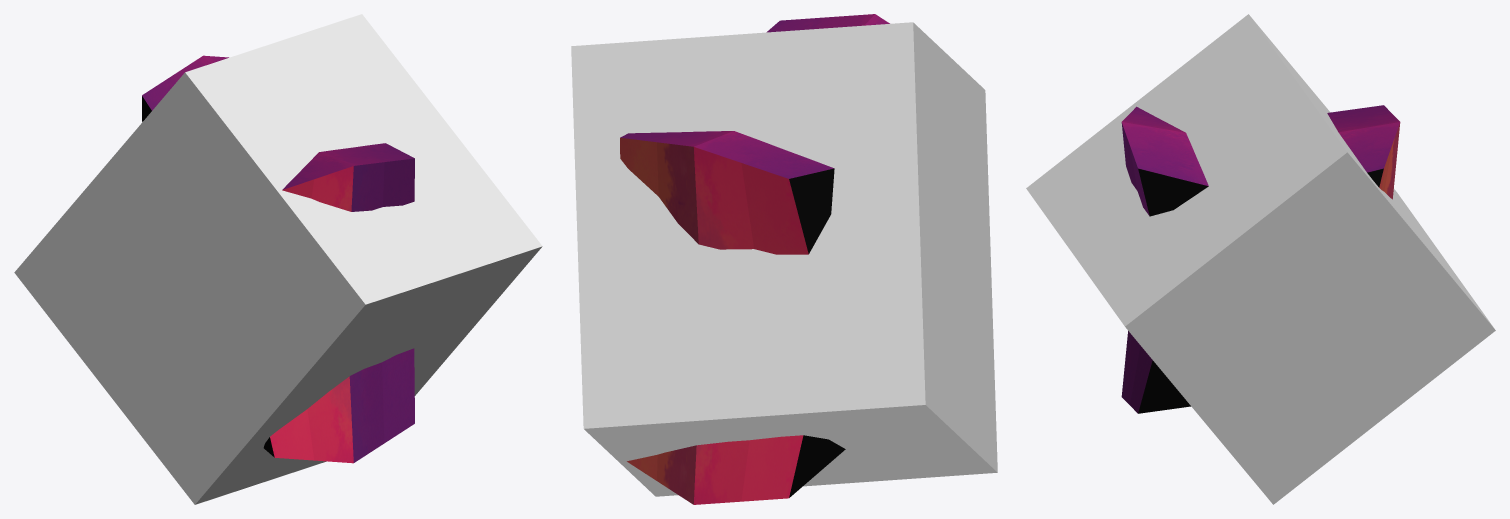
File: untitledTwo.fbx
3 views of the same model, side by side, from view 1: azimuth 30°, elevation 25°; view 2: azimuth 150°, elevation 25°; view 3: azimuth 270°, elevation 25° (orthographic). The views are drawn at different scales.
Parts seen in each view (by area): view 1: Cube, Куб; view 2: Cube, Куб; view 3: Cube, Куб.
Boxes of the visible parts, bbox=[...] form: Cube: bbox=[14, 14, 542, 504]; Куб: bbox=[142, 55, 414, 463]; Cube: bbox=[571, 22, 997, 496]; Куб: bbox=[620, 14, 889, 504]; Cube: bbox=[1026, 14, 1495, 504]; Куб: bbox=[1121, 105, 1400, 413].
Size of the model in its own units: 1902 by 2063 by 2193.
